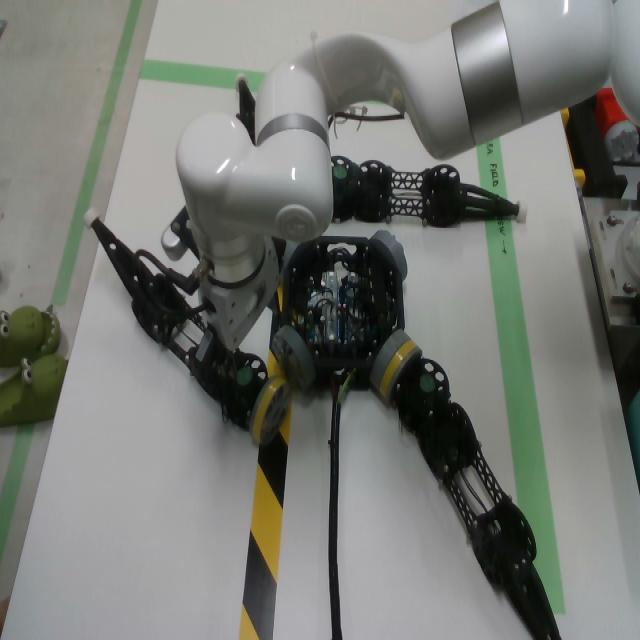body: (282, 236, 405, 392)
body_connector: (270, 325, 316, 390), (370, 329, 411, 389), (369, 231, 407, 281), (281, 240, 307, 276)
gripper: (195, 236, 280, 387)
leg: (380, 340, 562, 640), (82, 205, 291, 447), (331, 155, 529, 227), (235, 72, 256, 147)
leg_connector: (249, 376, 291, 445), (380, 340, 422, 400)
leg_marker: (420, 375, 435, 392), (237, 368, 252, 385), (334, 167, 347, 179)
